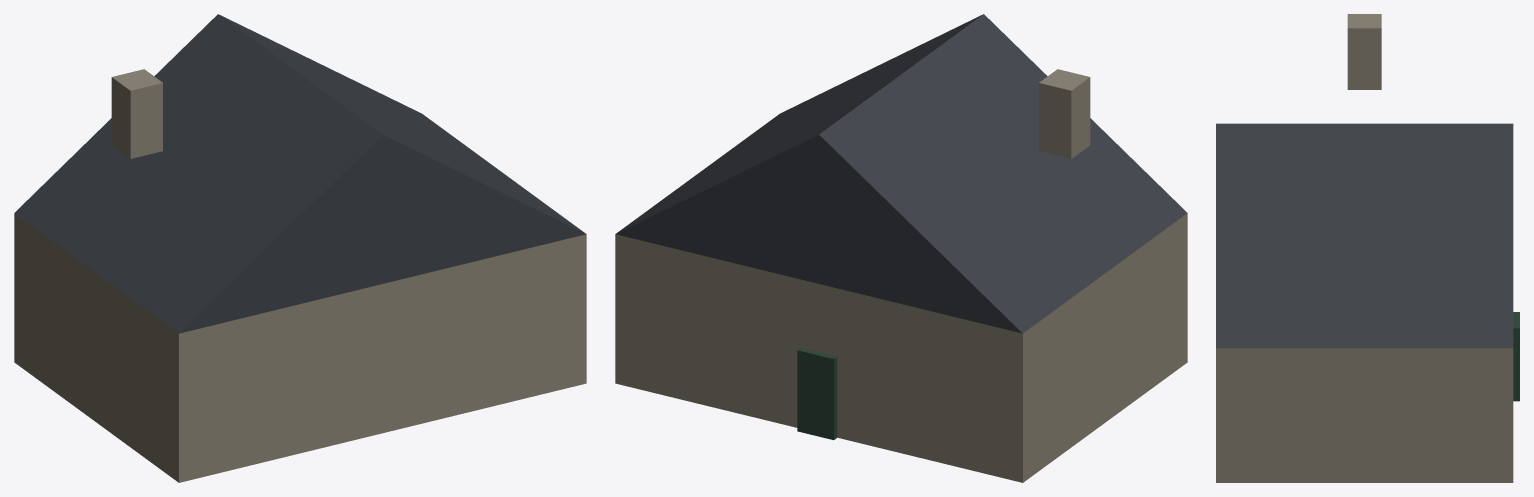
The model's file is d-gb-04-stone-cottage.glb.
3 views of the same model, side by side, from view 1: azimuth 30°, elevation 25°; view 2: azimuth 150°, elevation 25°; view 3: azimuth 270°, elevation 25° (orthographic). The views are drawn at different scales.
Parts seen in each view (by area): view 1: part1, part0, part4; view 2: part1, part0, part4, part3; view 3: part1, part0, part4, part3.
Boxes of the visible parts, <box> form: part1: <box>14,14,586,333</box>; part0: <box>14,213,586,482</box>; part4: <box>111,69,162,158</box>; part1: <box>615,14,1187,333</box>; part0: <box>615,213,1187,482</box>; part4: <box>1039,69,1090,158</box>; part3: <box>797,348,837,440</box>; part1: <box>1216,123,1513,348</box>; part0: <box>1216,348,1513,482</box>; part4: <box>1347,14,1381,89</box>; part3: <box>1513,312,1519,401</box>.
Size of the model in its own units: 10000 by 7800 by 7150.
